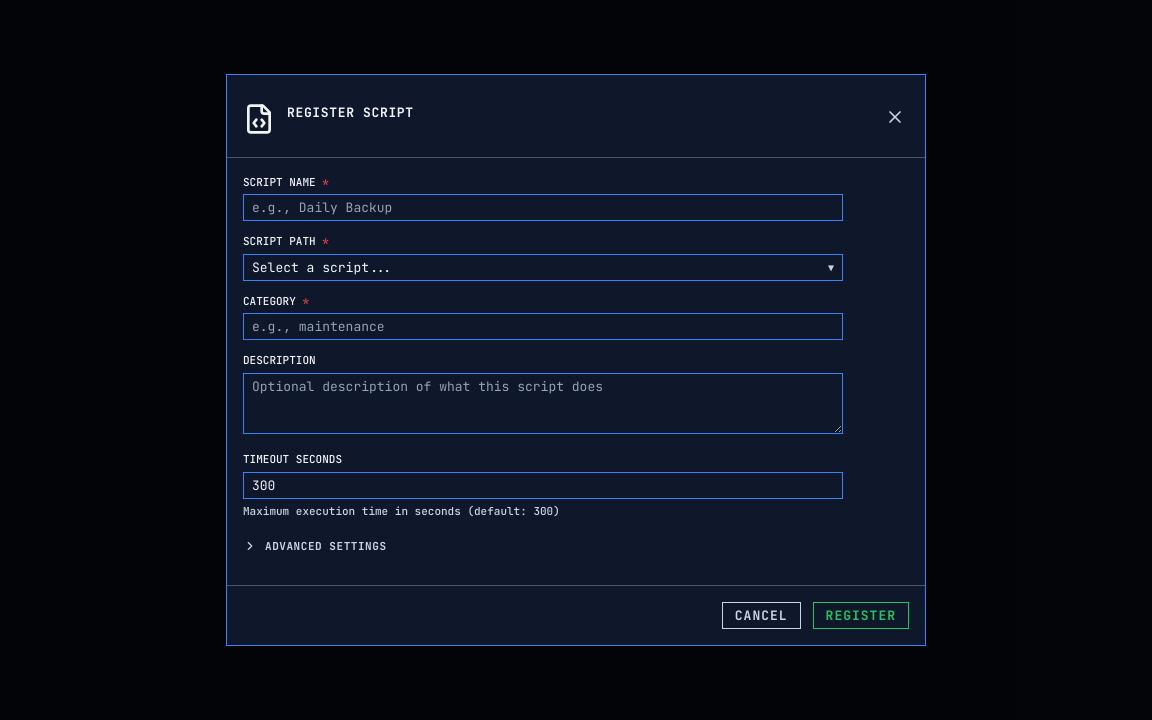
RegisterScriptModal › Available Scripts Fetching › should populate script path dropdown with fetched scripts
expect the text "SCRIPT PATH *" is shown: met, box x1=243 y1=234 x2=329 y2=248
Note: Open dropdown to see options
Click the button with class "custom-dropdown-toggle" at (322, 267), box x1=243 y1=254 x2=843 y2=280
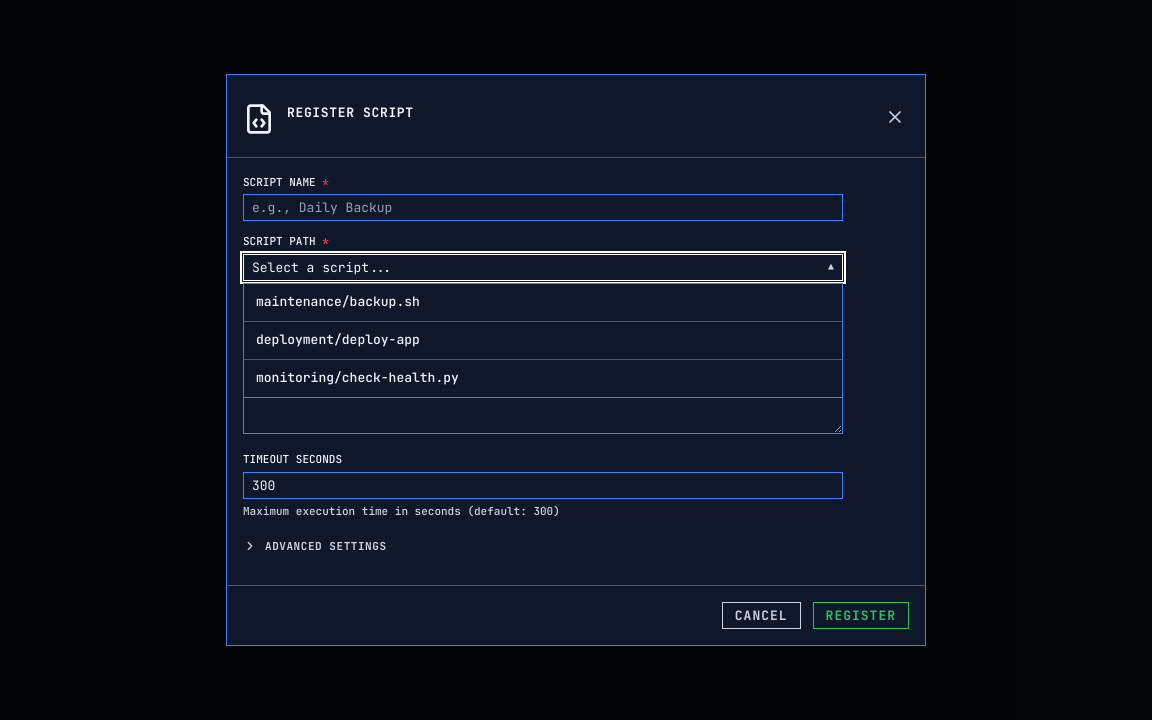
expect the text "maintenance/backup.sh" is shown: met, box x1=256 y1=292 x2=420 y2=312
expect the text "deployment/deploy-app" is shown: met, box x1=256 y1=330 x2=420 y2=350
expect the text "monitoring/check-health.py" is shown: met, box x1=256 y1=368 x2=459 y2=388
